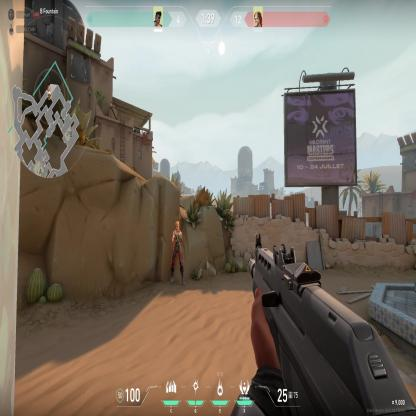enemy: (168, 219, 186, 285)
